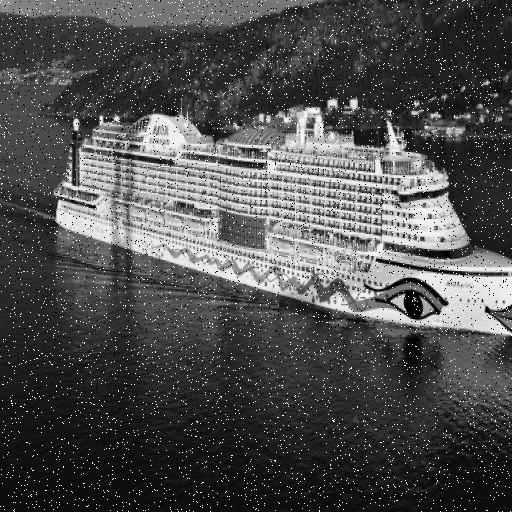cruises: (52, 94, 512, 356)
